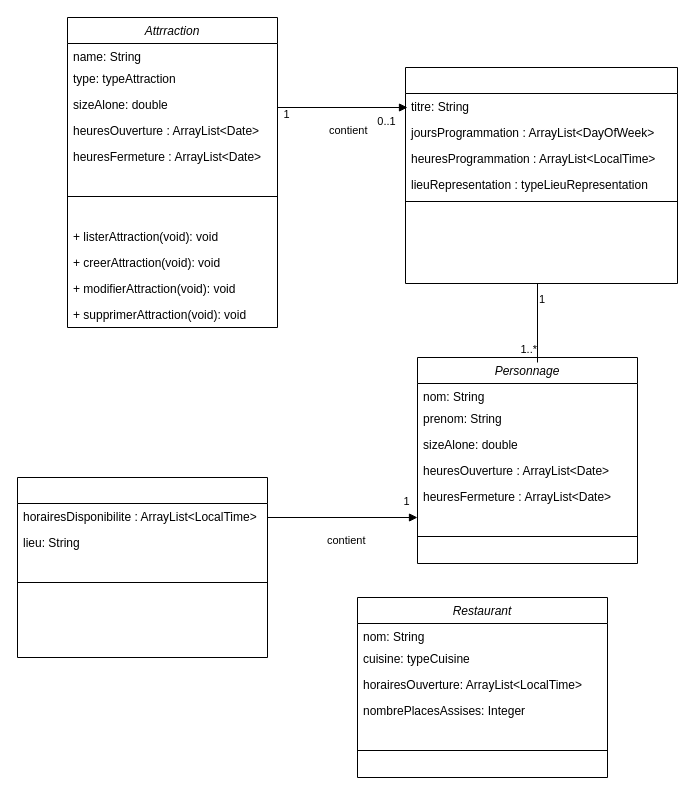
Image size: 695x795. Some labels were removed from this diagram. Each missing label, with the box of its shape:
Rencontre: (16, 476, 268, 658)
Spectacle: (404, 66, 678, 284)
